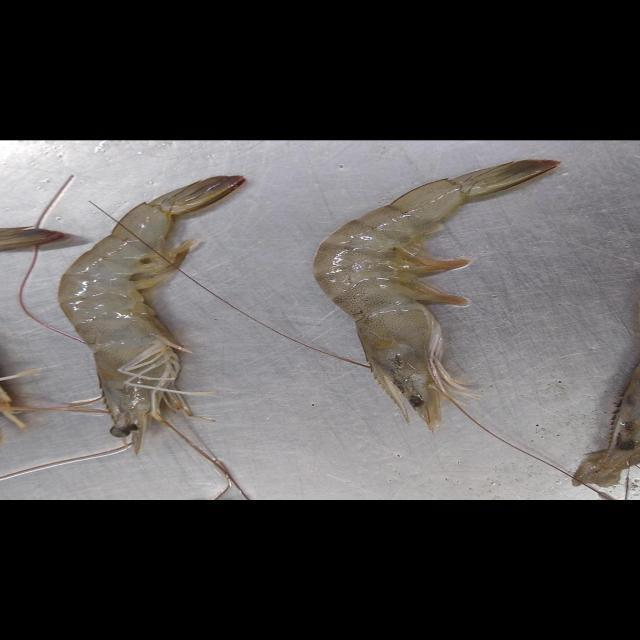shrimp: (313, 160, 558, 429), (58, 175, 244, 452)
